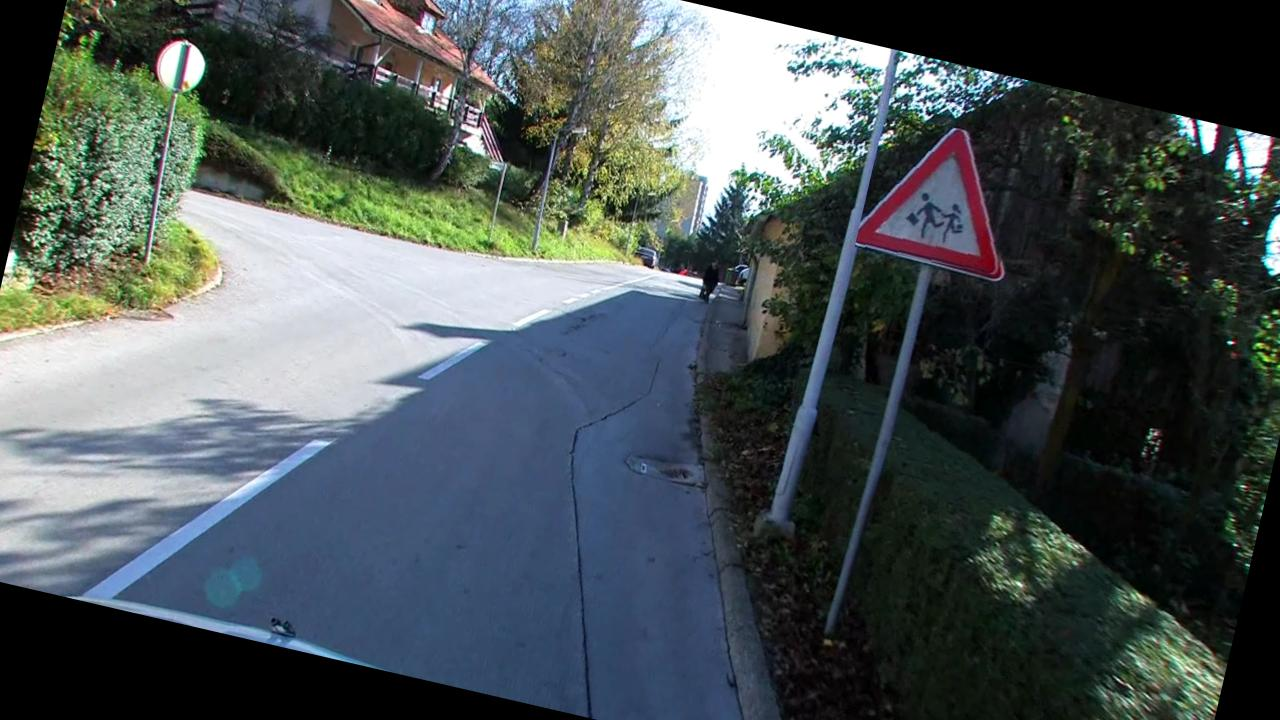Triangle: (854, 111, 1033, 280)
